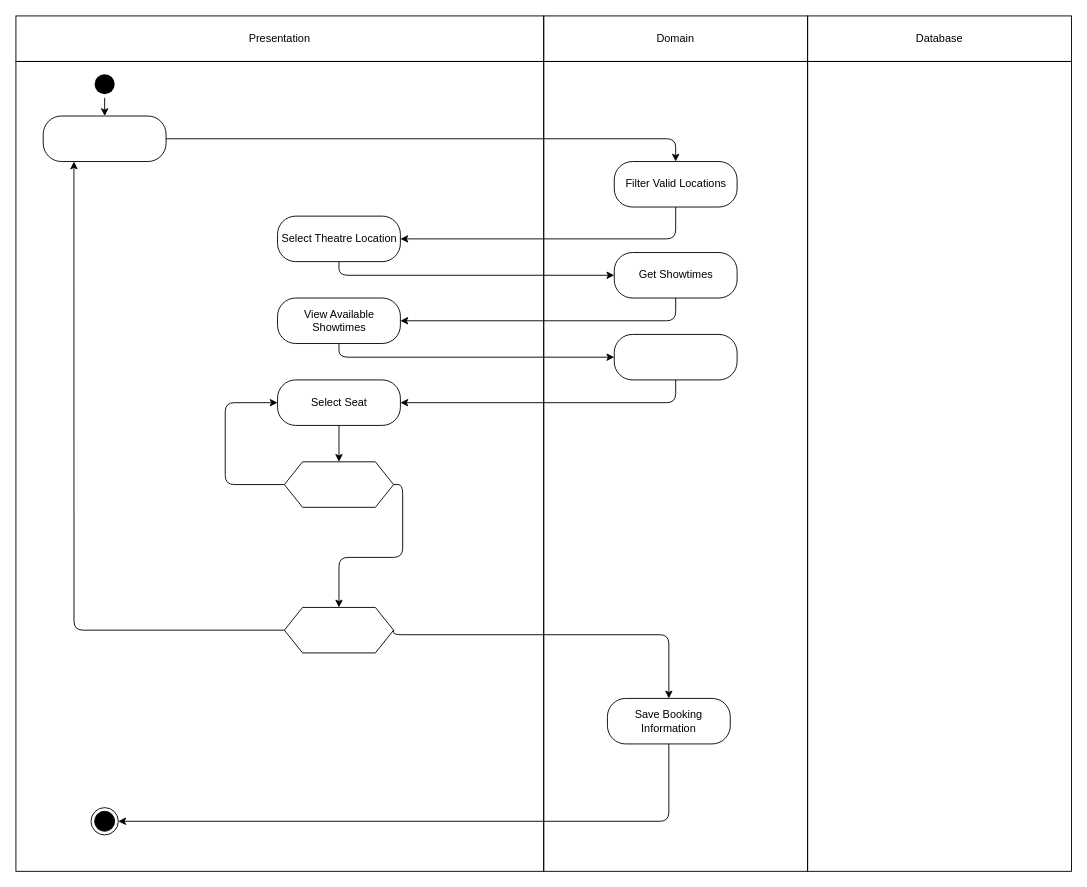
Some shapes in this 1087 by 887 pixel diagram are drawn without their labels. The centre of each missing label's shape, as x and y in pixels:
Add Another Showing?: the point at 338,630
Book Another Seat: the point at 338,484
Filter Valid Seating positions: the point at 675,357
Select Movie: the point at 104,138
